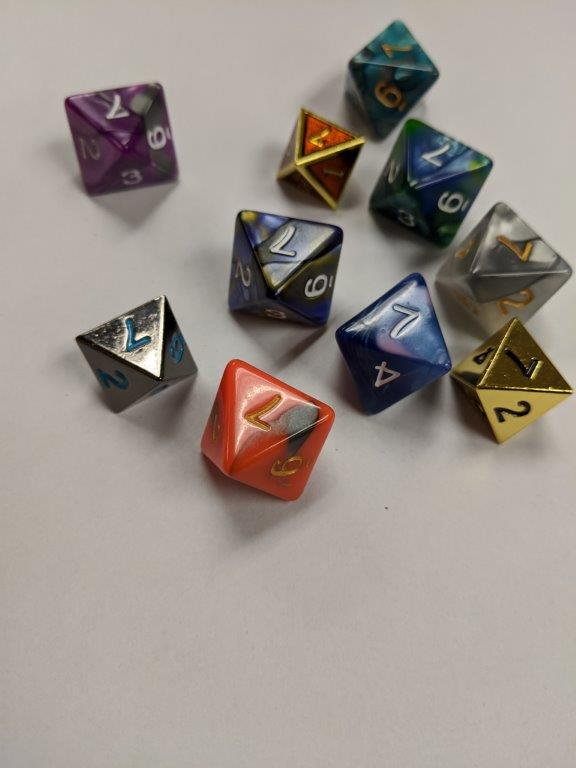d8-7: (438, 199, 571, 339), (202, 362, 333, 501), (452, 313, 575, 448), (341, 271, 452, 418), (369, 117, 491, 247), (224, 207, 347, 328), (59, 81, 179, 199), (75, 294, 196, 411), (345, 17, 438, 141), (276, 109, 366, 213)
